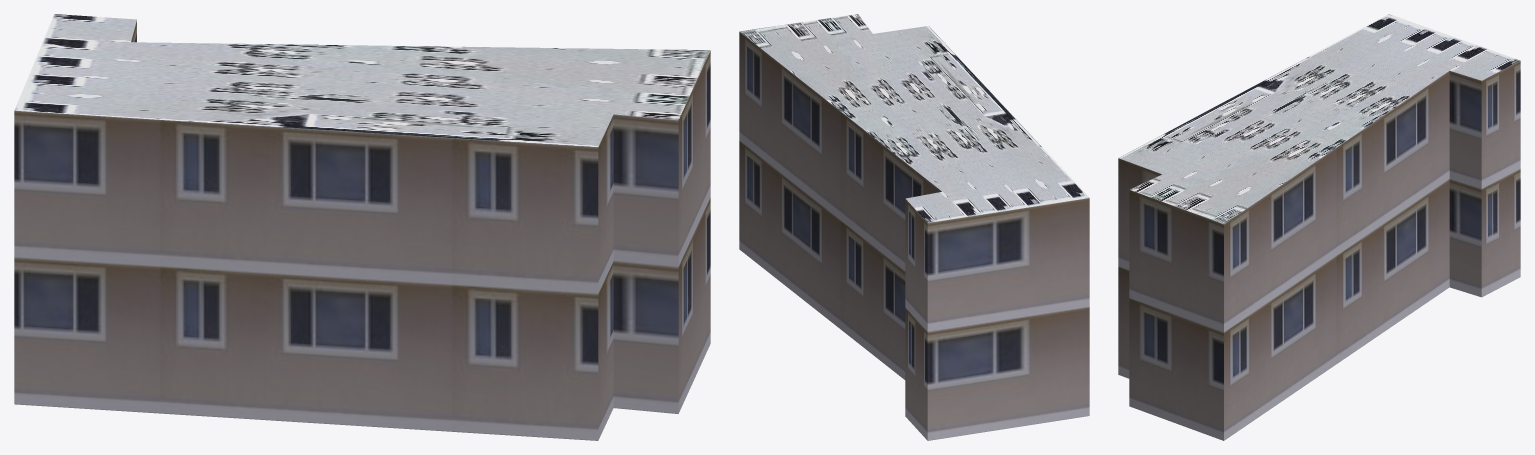
File: ResTex__943.fbx
3 renders of one model, left to right at view 1: azimuth 30°, elevation 25°; view 2: azimuth 150°, elevation 25°; view 3: azimuth 270°, elevation 25°, orthographic. The views are drawn at different scales.
Visible parts, largest first — view 1: CityEngineMaterial_21_m, CityEngineMaterial_m; view 2: CityEngineMaterial_21_m, CityEngineMaterial_m; view 3: CityEngineMaterial_21_m, CityEngineMaterial_m.
Boxes of the visible parts, bbox=[...] form: CityEngineMaterial_21_m: bbox=[14, 20, 710, 440]; CityEngineMaterial_m: bbox=[14, 14, 710, 147]; CityEngineMaterial_21_m: bbox=[739, 32, 1089, 440]; CityEngineMaterial_m: bbox=[739, 14, 1089, 222]; CityEngineMaterial_21_m: bbox=[1118, 60, 1520, 440]; CityEngineMaterial_m: bbox=[1118, 14, 1520, 224].
Size of the model in its own units: 12.49 by 6 by 10.09.
2 materials, 2 textured.
